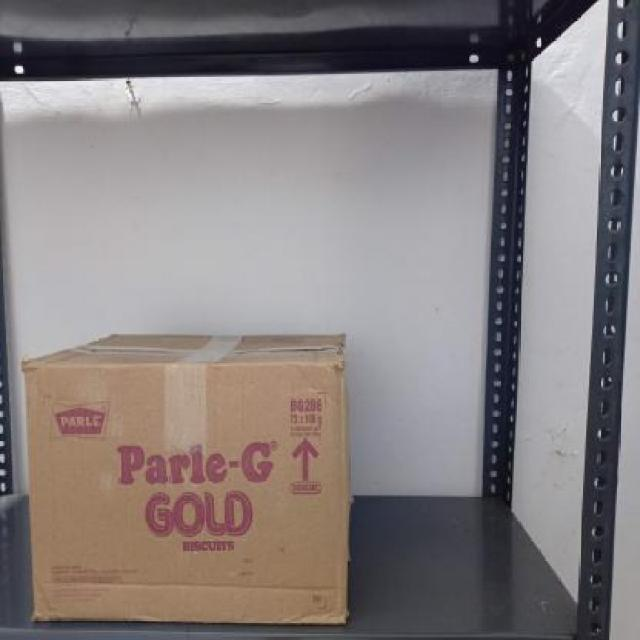box: (24, 366, 350, 626)
